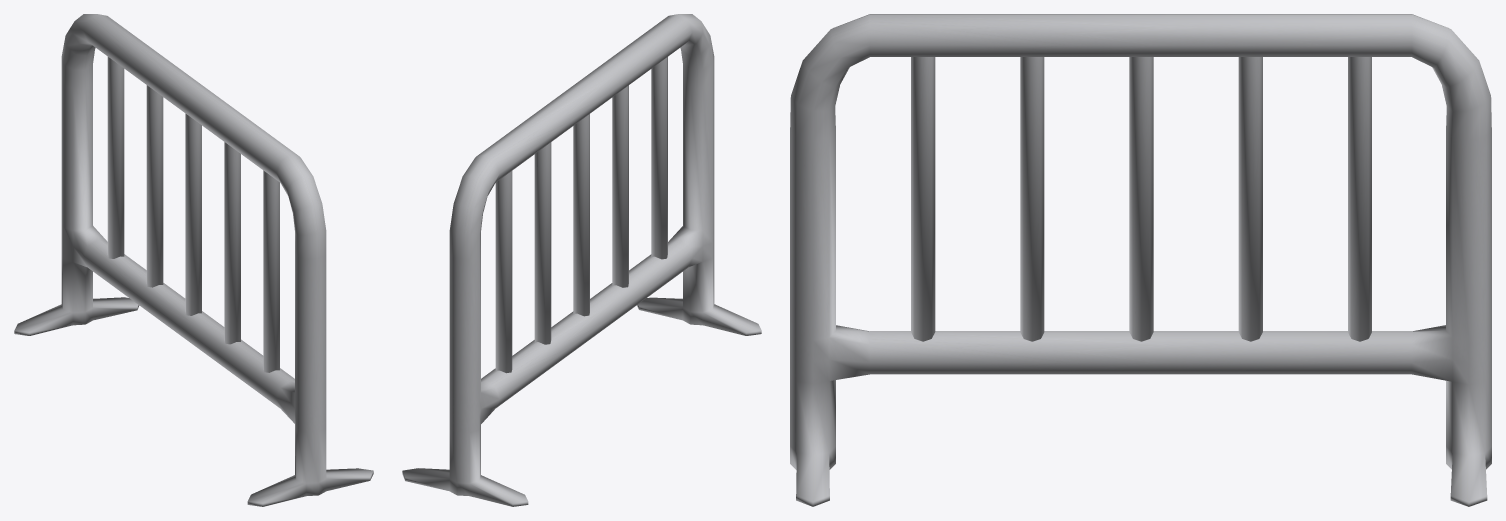
The model's file is fence.fbx.
3 views of the same model, side by side, from view 1: azimuth 30°, elevation 25°; view 2: azimuth 150°, elevation 25°; view 3: azimuth 270°, elevation 25° (orthographic). The views are drawn at different scales.
Parts seen in each view (by area): view 1: Cylinder; view 2: Cylinder; view 3: Cylinder.
Boxes of the visible parts, x1,y1,x2,y2 form: Cylinder: (14, 14, 373, 506); Cylinder: (402, 14, 761, 506); Cylinder: (790, 14, 1491, 506).
Bounding box in the file's own units: 623 × 1511 × 2140.
